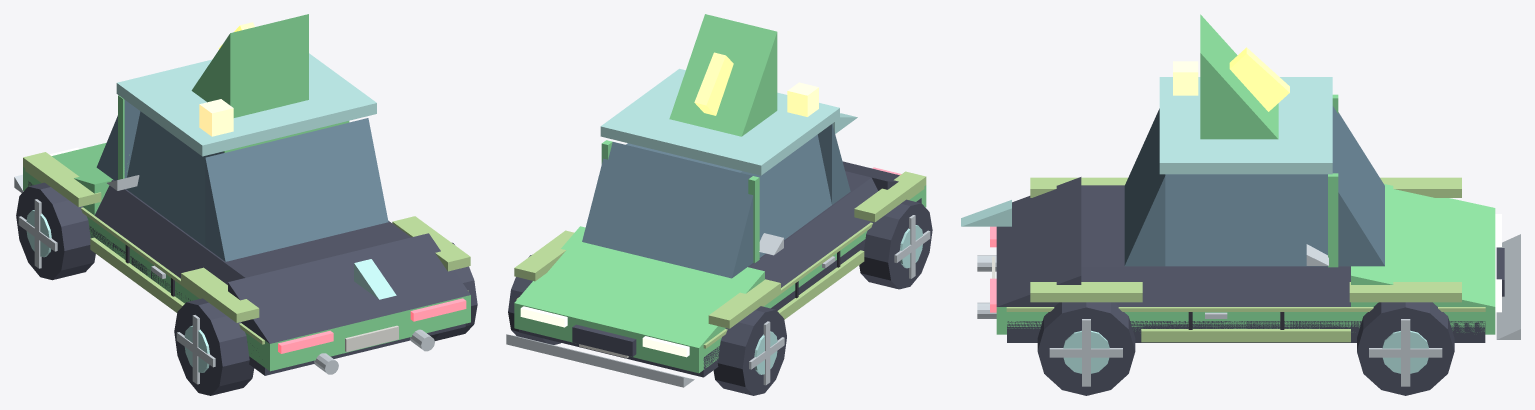
File: thunder_thimble.glb
3 views of the same model, side by side, from view 1: azimuth 30°, elevation 25°; view 2: azimuth 150°, elevation 25°; view 3: azimuth 270°, elevation 25° (orthographic). The views are drawn at different scales.
Visible parts, largest first — view 1: RearWindow.234, Tail.138, HatBrim.008, HatPeak.008, CabinSideL.131, Body.334, ShoulderL.131, Wheel_FL.274, Wheel_RL.274, BodyUpper.131, Arch-1True.190, Arch-1False.190 (+18 smaller); view 2: Windshield.234, Nose.131, HatBrim.008, HatPeak.008, CabinSideL.131, ShoulderL.131, Body.334, Wheel_FL.274, Wheel_RL.274, Bumper.330, Arch-1True.190, Sill.330 (+19 smaller); view 3: CabinSideR.131, HatBrim.008, Nose.131, ShoulderR.131, Tail.138, Windshield.234, HatPeak.008, Wheel_RR.274, Wheel_FR.274, Body.334, RearWindow.234, BodyUpper.131 (+18 smaller).
Boxes of the visible parts, <box> form: RearWindow.234: <box>205,118,388,261</box>; Tail.138: <box>228,233,470,343</box>; HatBrim.008: <box>116,53,376,156</box>; HatPeak.008: <box>191,14,308,117</box>; CabinSideL.131: <box>126,111,224,246</box>; Body.334: <box>23,167,470,371</box>; ShoulderL.131: <box>94,180,244,284</box>; Wheel_FL.274: <box>16,182,95,280</box>; Wheel_RL.274: <box>174,298,254,395</box>; BodyUpper.131: <box>112,180,410,277</box>; Arch-1True.190: <box>181,267,259,322</box>; Arch-1False.190: <box>23,152,101,207</box>; Windshield.234: <box>582,142,753,278</box>; Nose.131: <box>514,226,764,347</box>; HatBrim.008: <box>600,68,839,175</box>; HatPeak.008: <box>669,14,777,136</box>; CabinSideL.131: <box>740,134,831,257</box>; ShoulderL.131: <box>749,178,877,287</box>; Body.334: <box>514,185,926,373</box>; Wheel_FL.274: <box>713,306,786,395</box>; Wheel_RL.274: <box>859,199,932,289</box>; Bumper.330: <box>506,334,694,387</box>; Arch-1True.190: <box>854,171,926,222</box>; Sill.330: <box>519,198,921,377</box>; CabinSideR.131: <box>1165,174,1327,266</box>; HatBrim.008: <box>1159,77,1332,174</box>; Nose.131: <box>1351,184,1495,306</box>; ShoulderR.131: <box>1081,267,1350,306</box>; Tail.138: <box>996,177,1081,306</box>; Windshield.234: <box>1332,106,1384,266</box>; HatPeak.008: <box>1200,14,1278,139</box>; Wheel_RR.274: <box>1037,302,1135,395</box>; Wheel_FR.274: <box>1357,302,1454,395</box>; Body.334: <box>996,307,1495,334</box>; RearWindow.234: <box>1124,108,1165,266</box>; BodyUpper.131: <box>1081,185,1350,266</box>.
Bounding box in the file's own units: 3 × 3.25 × 5.5.
